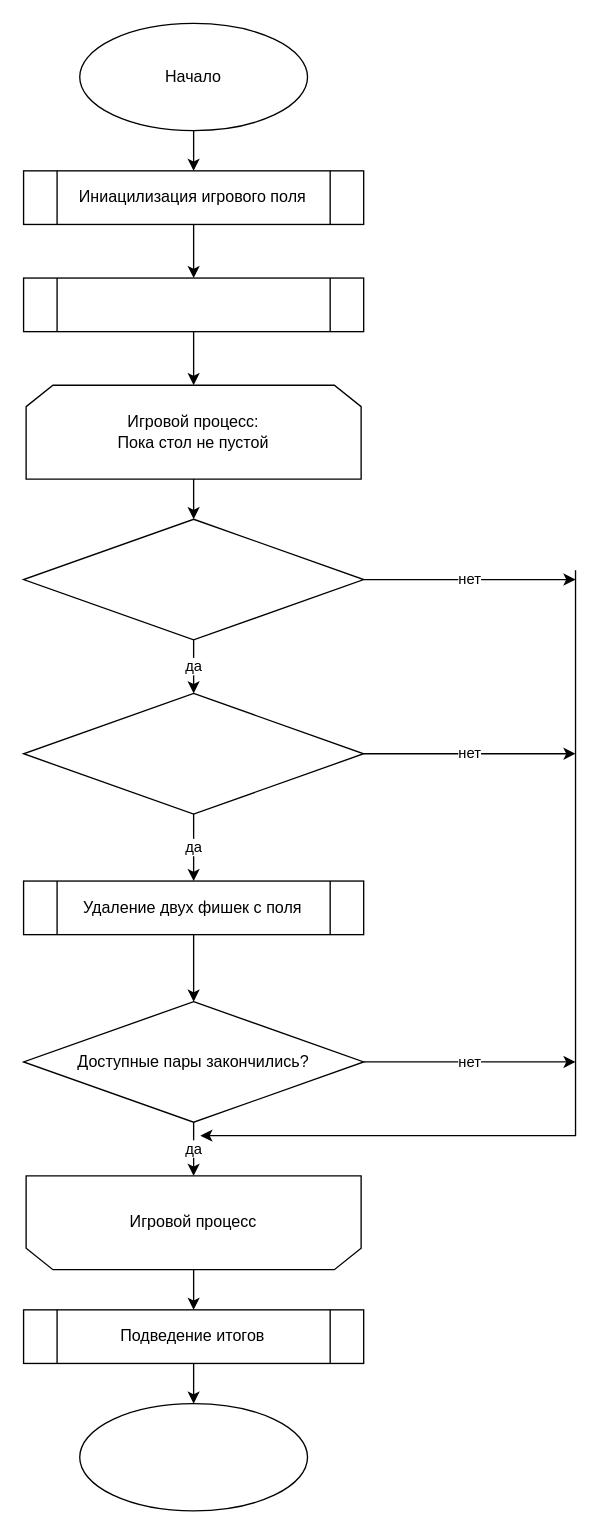
Some shapes in this 610 by 1534 pixel diagram are drawn without their labels. Each missing label, with the box of its shape:
Выбраны две фишки?: (22, 518, 364, 640)
Иниацилизация мирамиды фишек: (22, 277, 364, 332)
Конец: (78, 1402, 308, 1511)
Эти две фишки одинаковы?: (22, 692, 364, 814)
